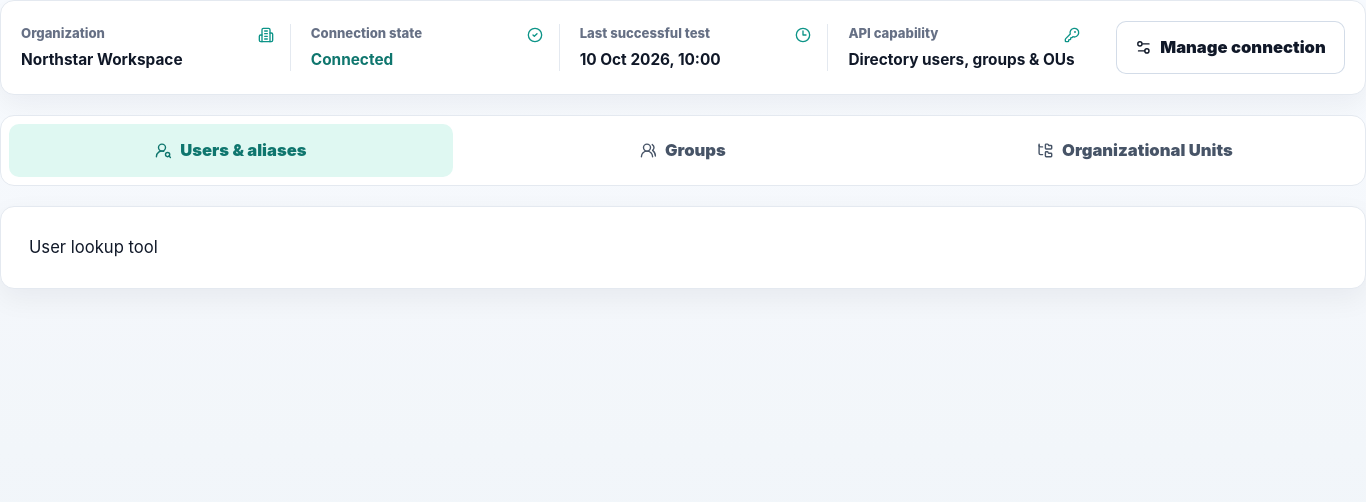
Test: GoogleWorkspaceAdministration › keeps the connected status compact and opens the existing wizard on demand
The image size is (1366, 502).
Expected: the text "Connected" is shown, [311, 50, 393, 69]
Expected: the text "Directory users, groups & OUs" is shown, [848, 48, 1076, 71]
Click the button "Manage connection" at (1231, 48), box [1116, 21, 1345, 74]
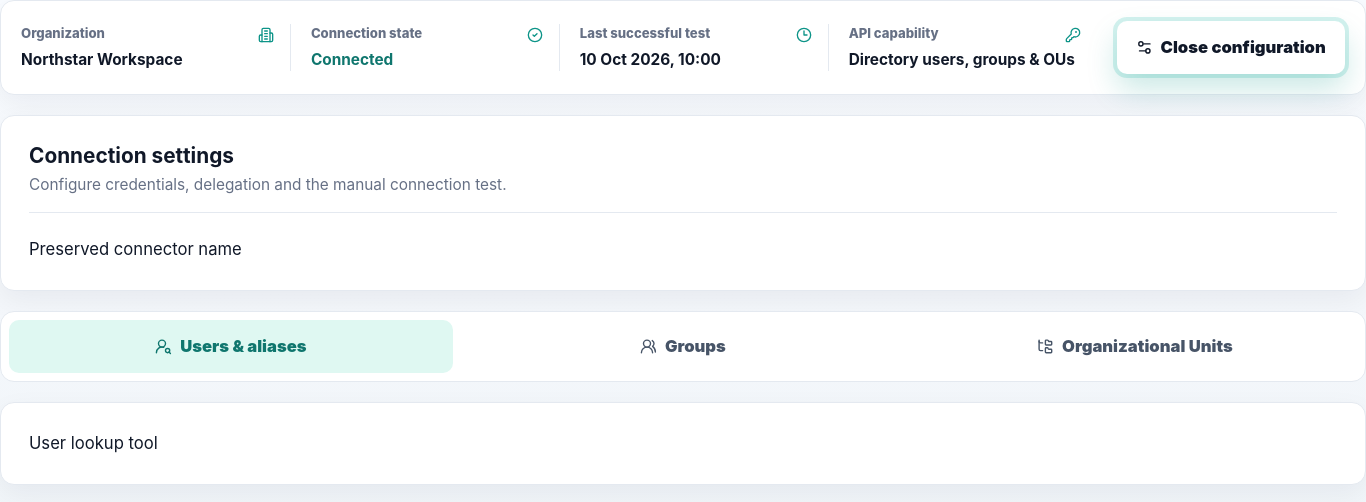
Result: the text with test id "connection-wizard" reads "Preserved connector name" at [29, 239, 242, 259]
Result: the button "Close configuration" is expanded at [1116, 21, 1345, 74]
